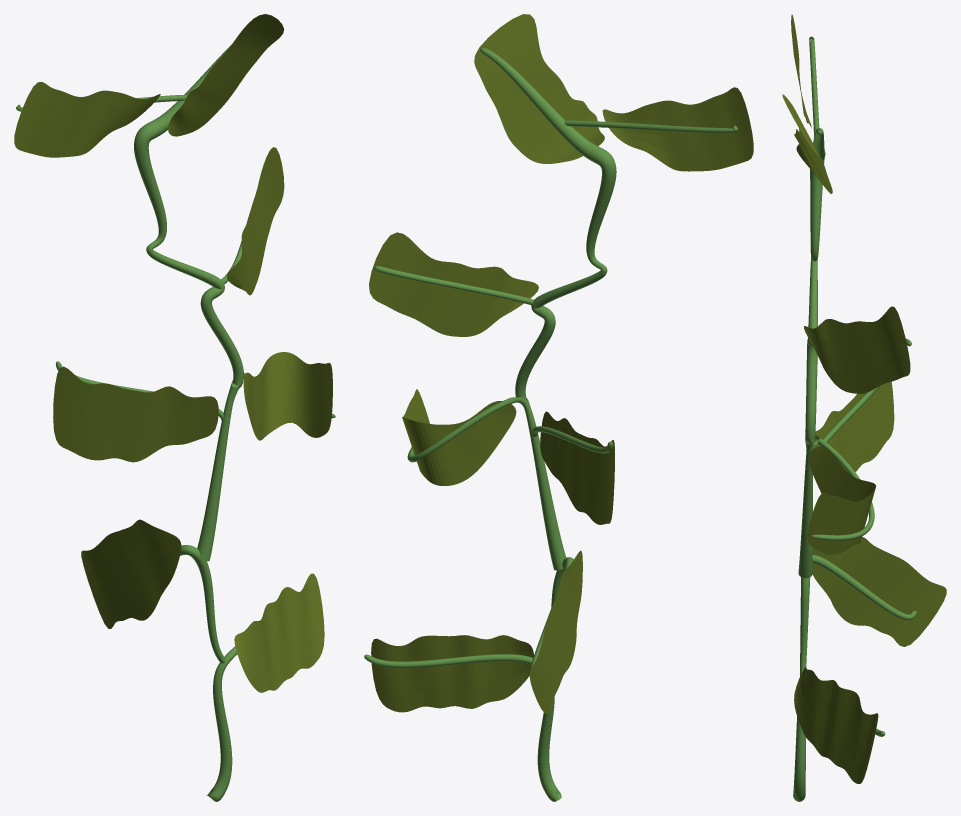
Rendered from seaweed002.fbx.
3 renders of one model, left to right at view 1: azimuth 30°, elevation 25°; view 2: azimuth 150°, elevation 25°; view 3: azimuth 270°, elevation 25°, orthographic. The views are drawn at different scales.
Visible parts, largest first — view 1: BezierCurve; view 2: BezierCurve; view 3: BezierCurve.
Boxes of the visible parts, x1,y1,x2,y2 form: BezierCurve: [14, 14, 335, 801]; BezierCurve: [364, 14, 753, 801]; BezierCurve: [782, 14, 946, 801].
Size of the model in its own units: 366 by 785 by 162.
